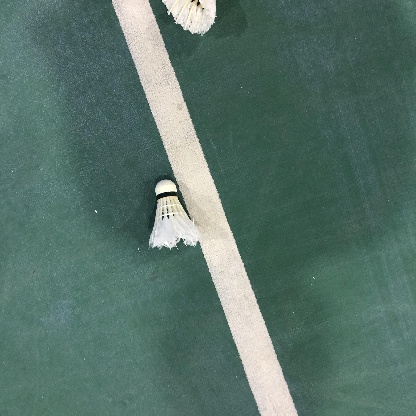ball_single: (149, 179, 200, 248), (162, 0, 216, 35)
